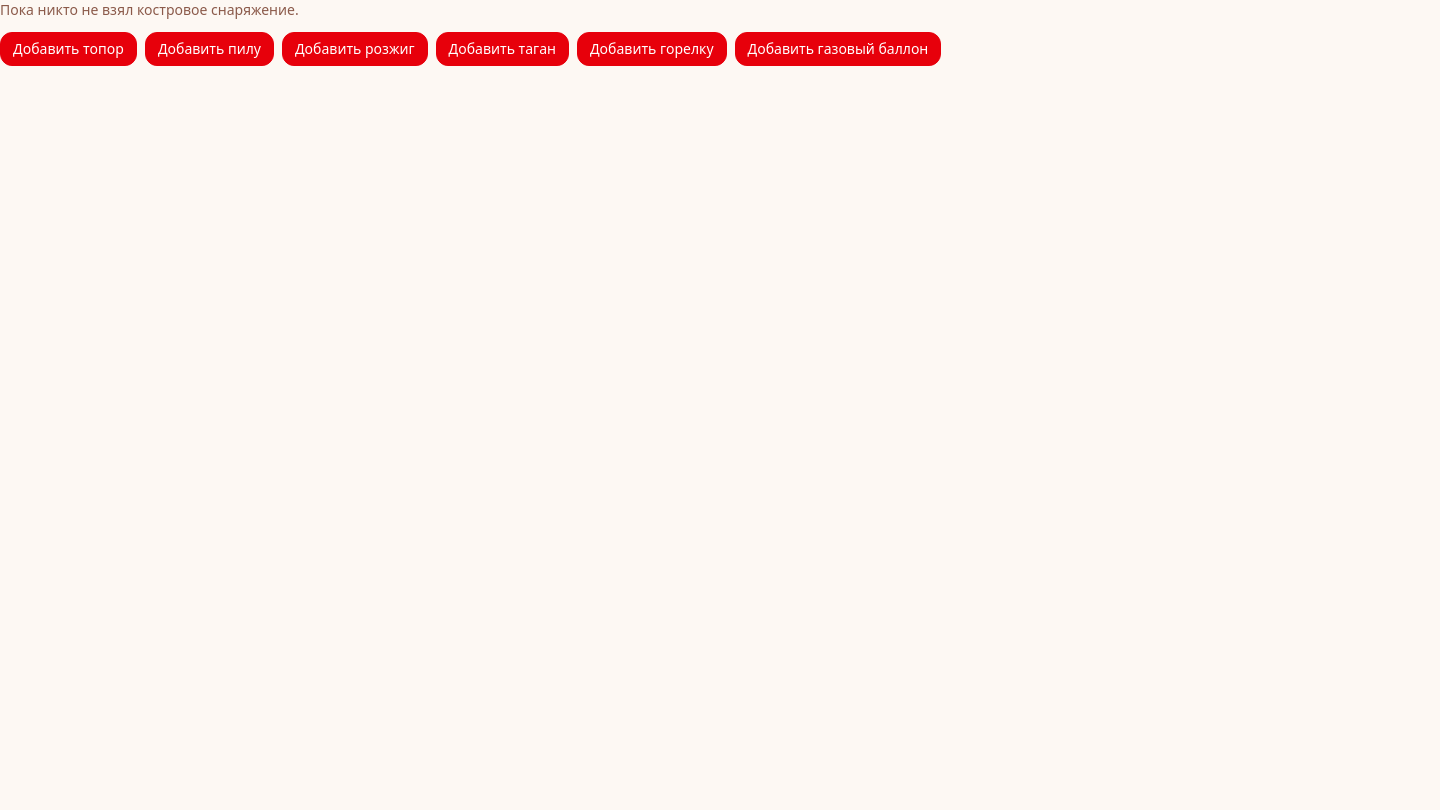
Scenario: секция «Костровое» › ошибка предложения видна в модалке
Click the button with test id "route-cooking-add-axe". click: (68, 49)
box: [0, 32, 137, 66]
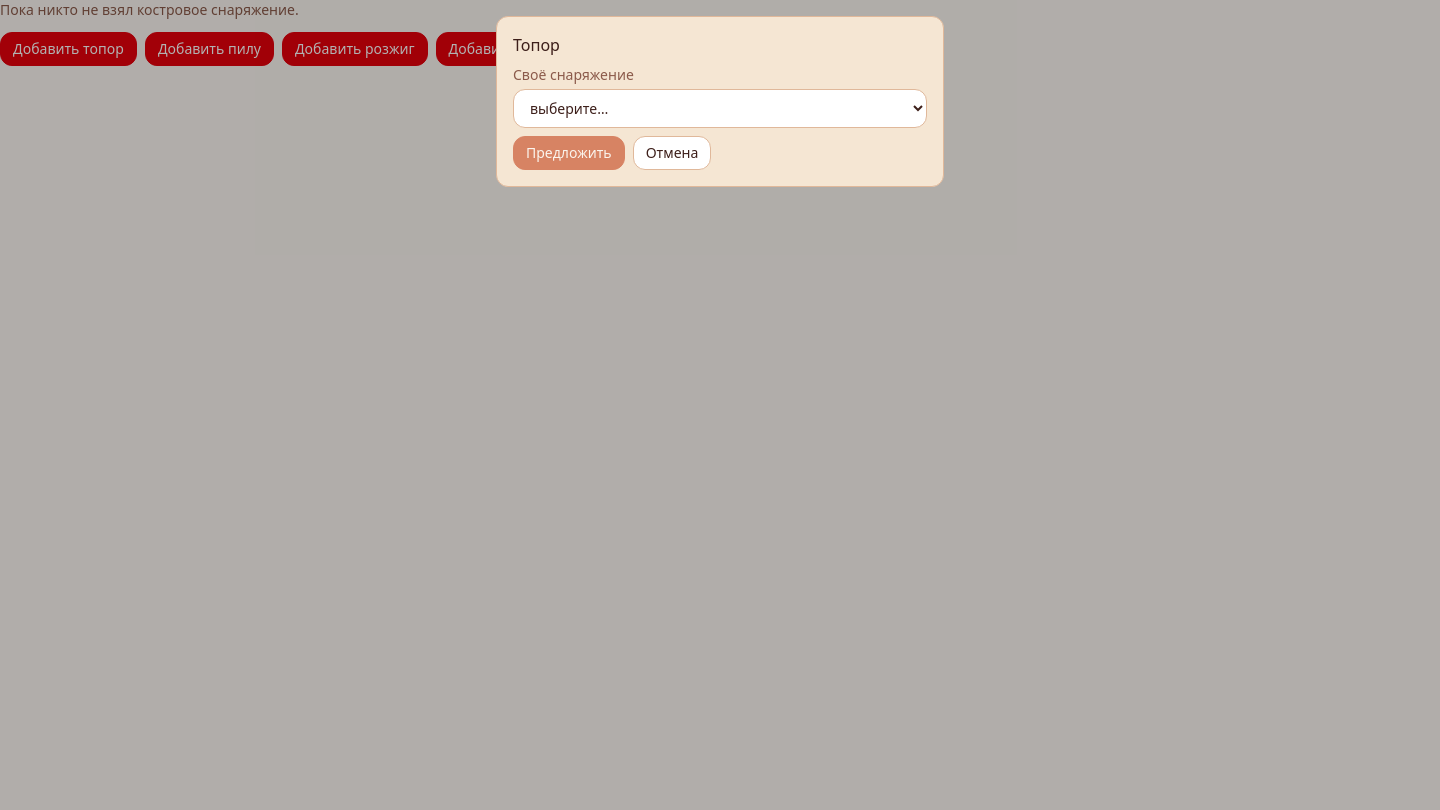
Select "Топор" in the dropdown with test id "route-cooking-gear". click: (720, 108)
box: [513, 89, 927, 128]
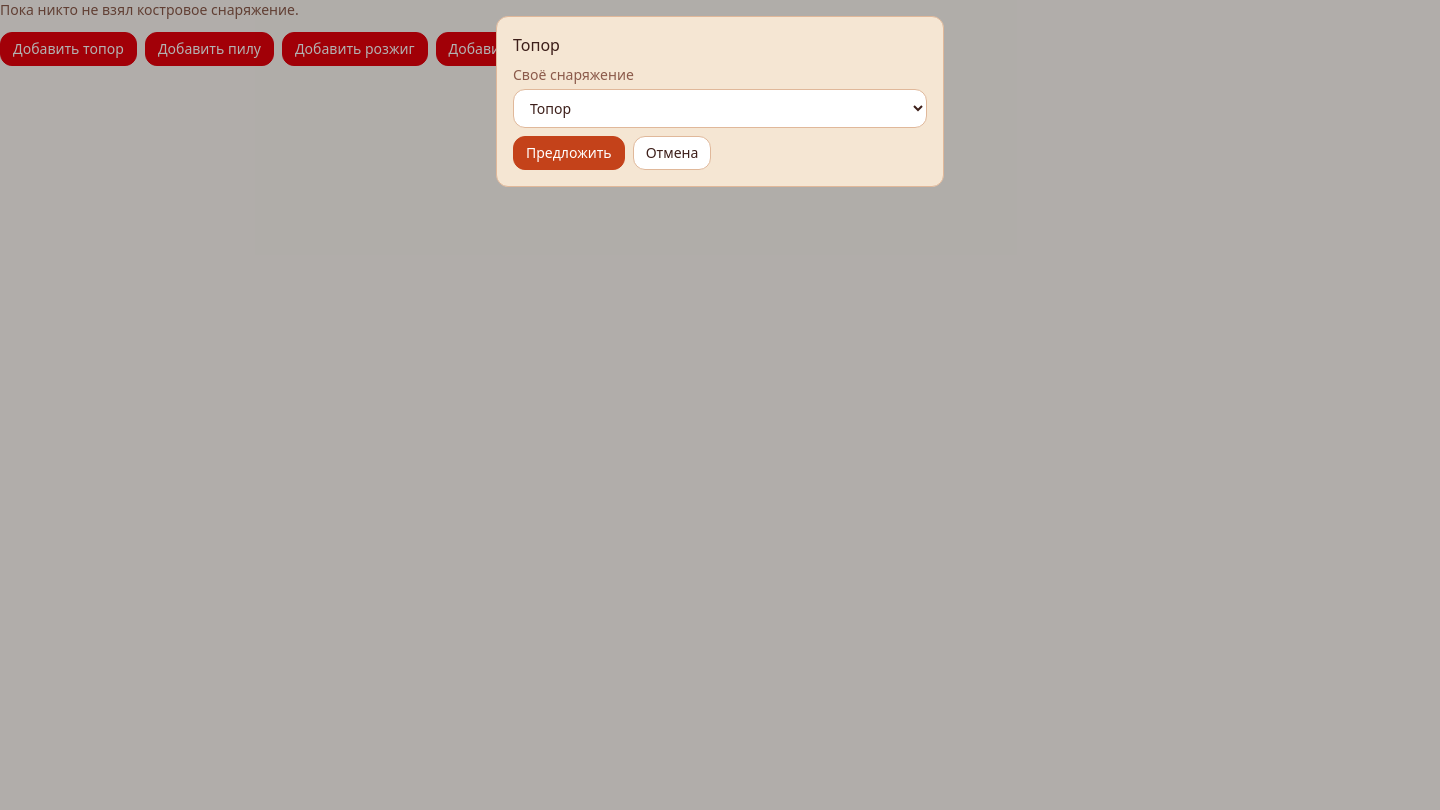
Click the button with test id "route-cooking-save". click: (569, 153)
box: [513, 136, 625, 170]
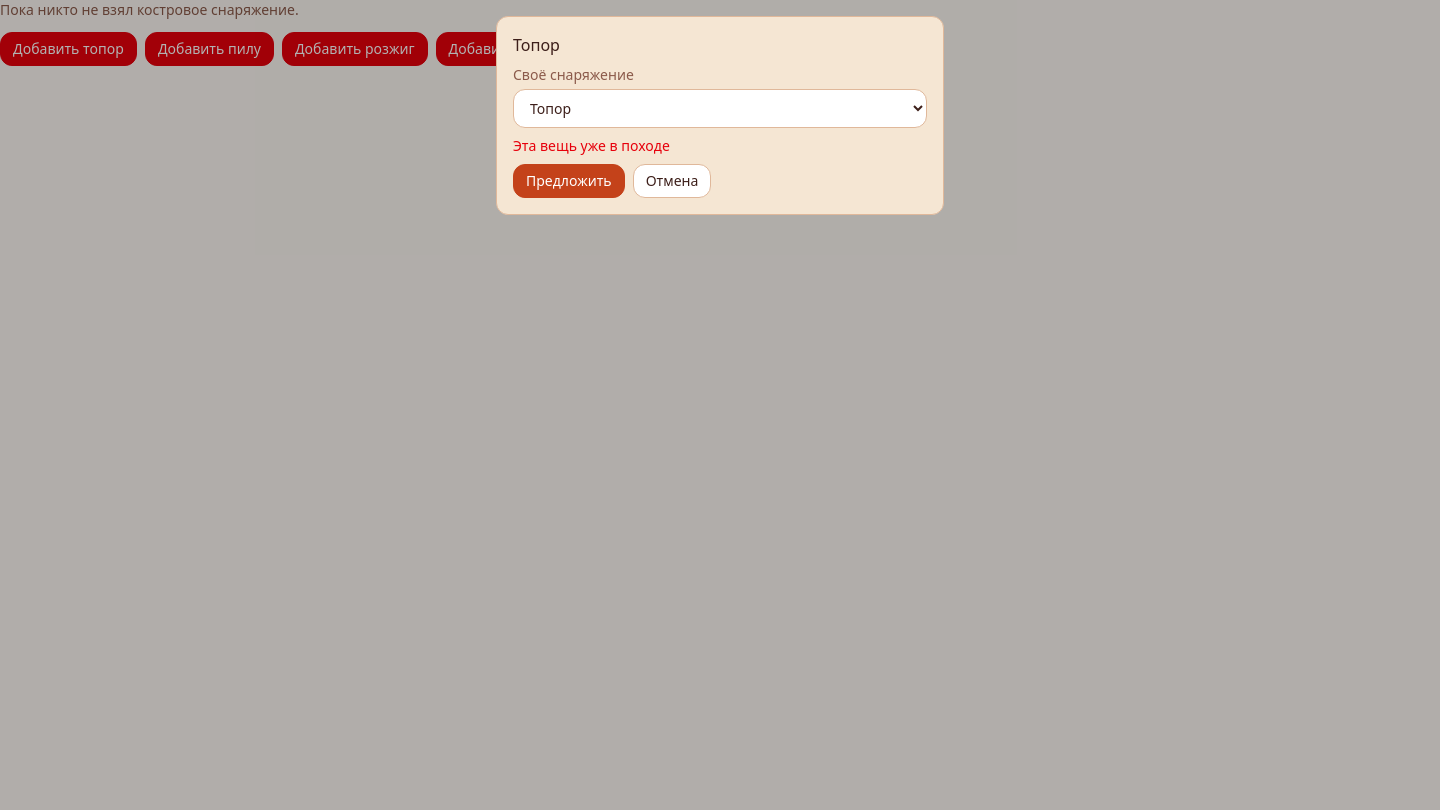
Expected: the element with test id "route-cooking-dialog" is shown
Expected: the text with test id "route-cooking-error-dialog" reads "Эта вещь уже в походе", [513, 136, 670, 155]
